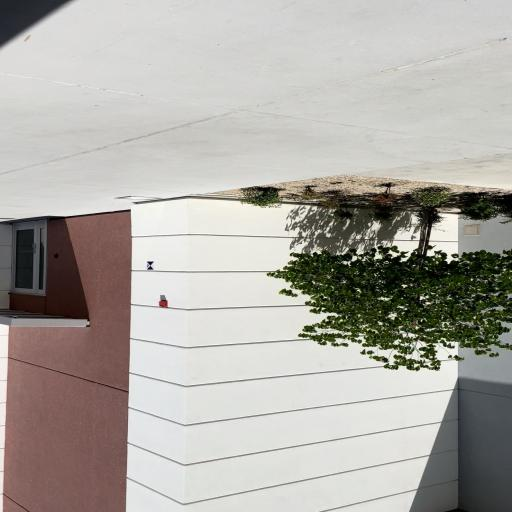target2: (146, 261, 154, 270)
